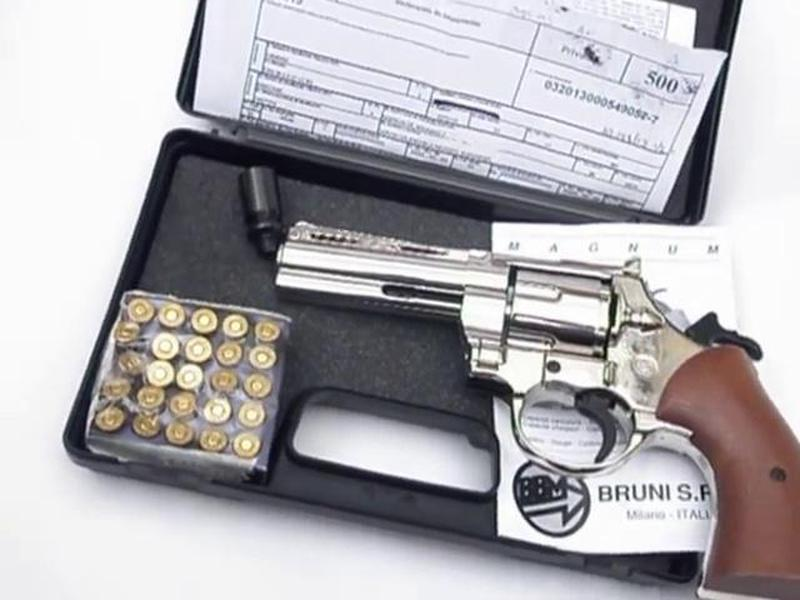Revolver: (283, 191, 800, 525)
